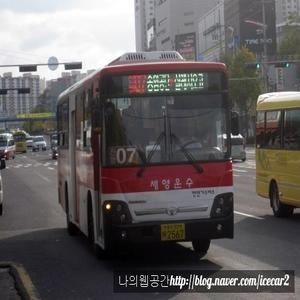07bus: (46, 64, 250, 265)
frontdoor: (89, 87, 107, 248)
